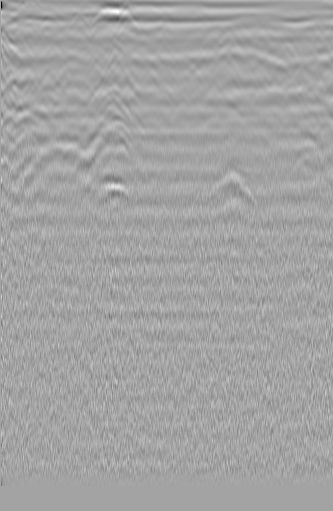가스: (87, 170, 136, 213)
상수: (3, 66, 35, 99)
오수: (275, 32, 309, 65)
우수: (145, 36, 175, 63)
